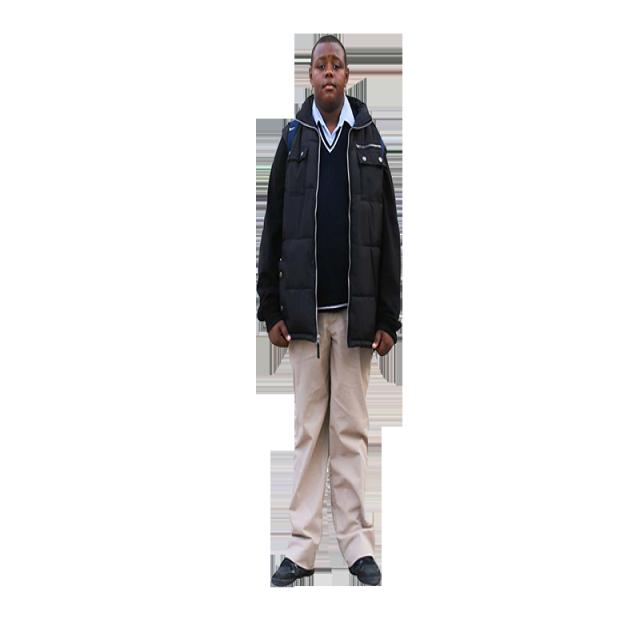jovem: (251, 34, 412, 610)
